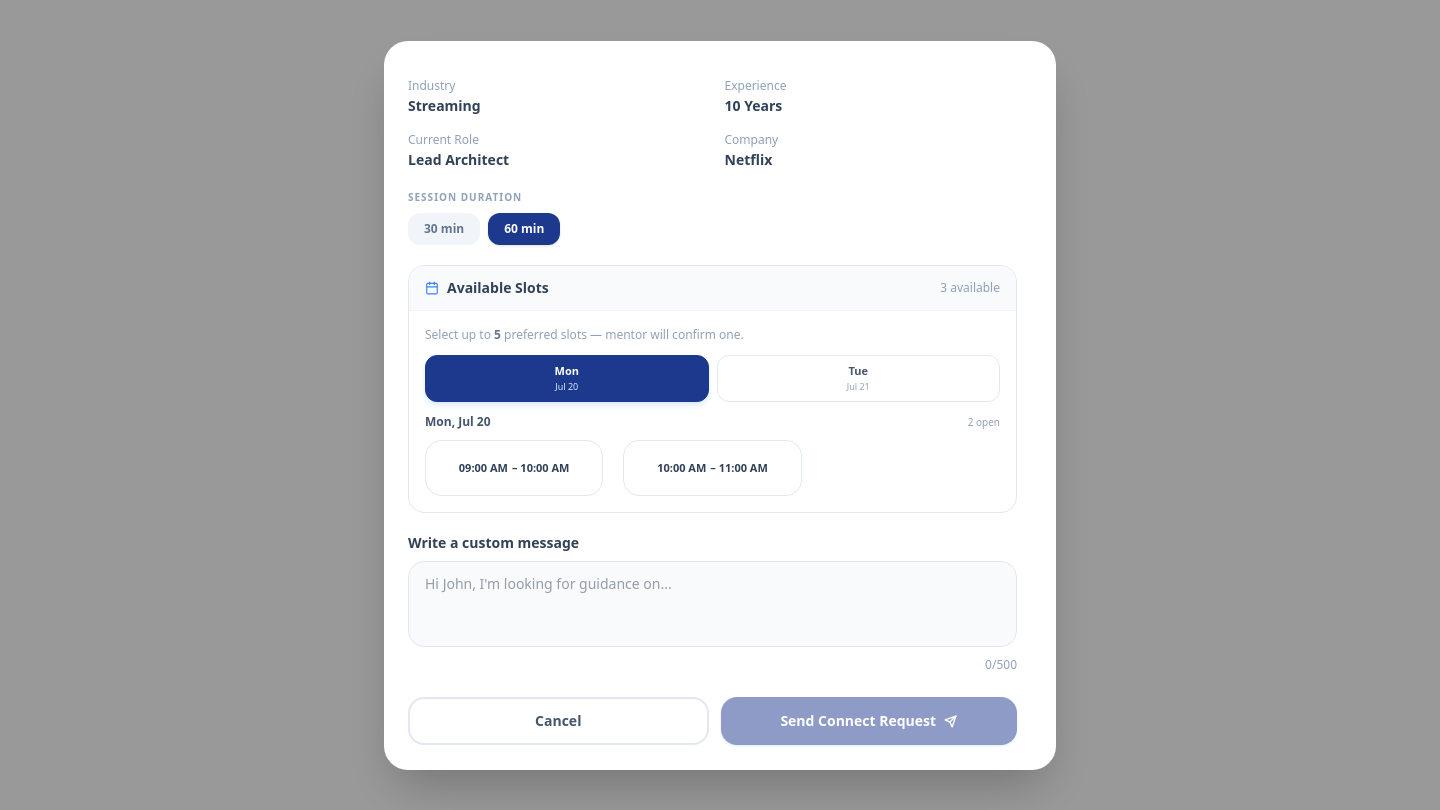
Test case: MentorProfileModal › handles lock slot failure gracefully
(page scrolled)
Click the button "09:00 AM – 10:00 AM". click: point(514, 468)
box: left=425, top=440, right=603, bottom=496
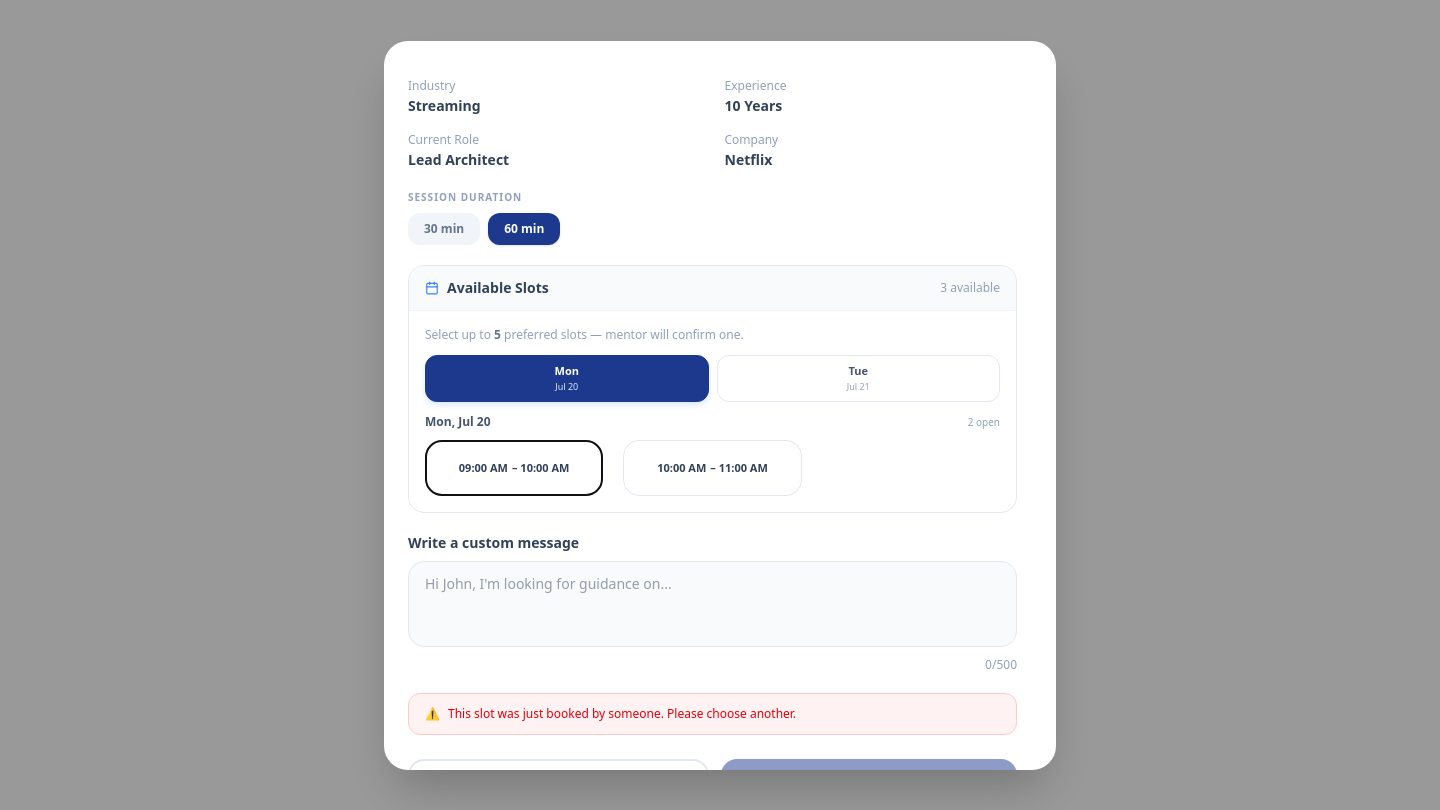
Now the text "This slot was just booked by someone" is shown, box left=448, top=705, right=796, bottom=722
